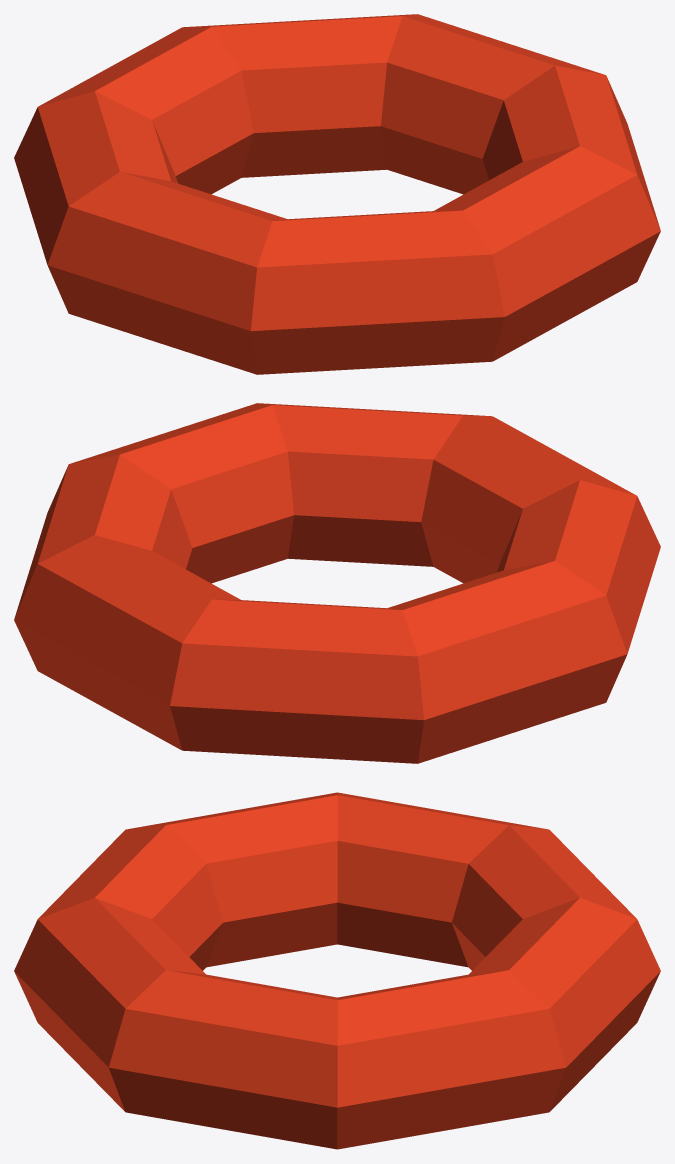
Rendered from lifebouy.fbx.
3 renders of one model, top to bottom at view 1: azimuth 30°, elevation 25°; view 2: azimuth 150°, elevation 25°; view 3: azimuth 270°, elevation 25°, orthographic. The views are drawn at different scales.
Visible parts, largest first — view 1: Torus; view 2: Torus; view 3: Torus.
Part boxes in pixels (<box>): Torus: <box>14,14,660,374</box>; Torus: <box>14,403,660,763</box>; Torus: <box>14,792,660,1149</box>.
Bounding box in the file's own units: 515 × 129 × 515.
